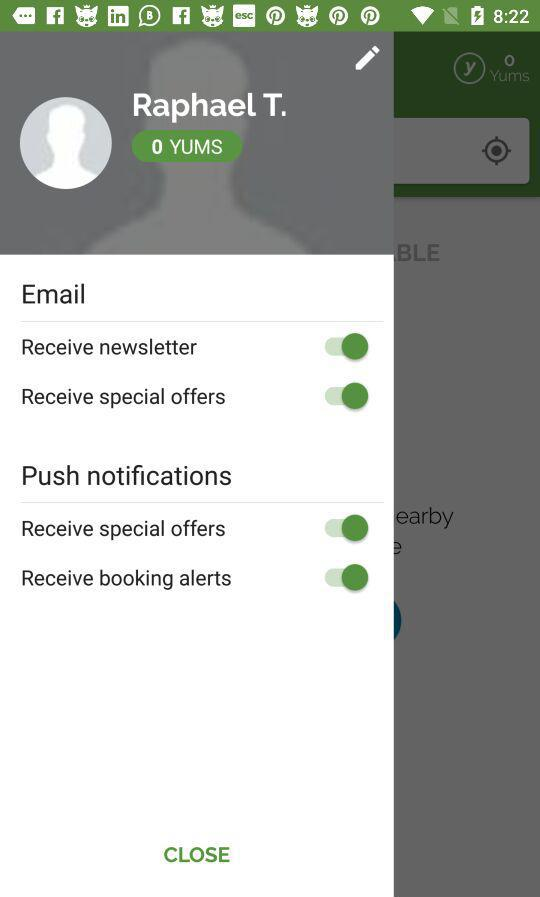Drawer: (1, 33, 394, 897)
Icon: (20, 97, 113, 190), (355, 46, 381, 72)
Switch: (324, 514, 370, 543), (324, 563, 369, 592), (324, 333, 370, 361), (325, 382, 369, 411)
Text: (134, 91, 287, 125), (22, 568, 233, 591), (23, 464, 233, 487), (22, 388, 226, 410), (22, 519, 226, 541), (22, 338, 199, 358), (23, 283, 86, 306), (164, 846, 231, 864)
TextButton: (133, 131, 243, 163)
UpperTaskBar: (1, 1, 540, 33)
